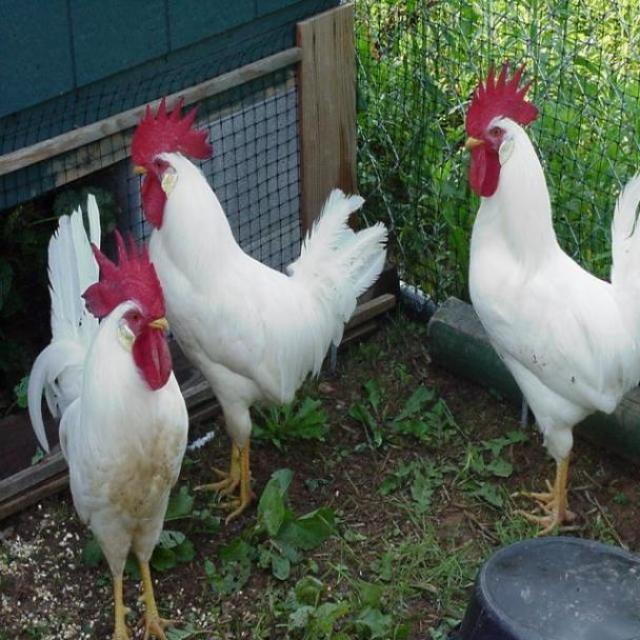Chicken: (130, 93, 390, 535), (441, 75, 640, 542), (24, 188, 193, 640)
